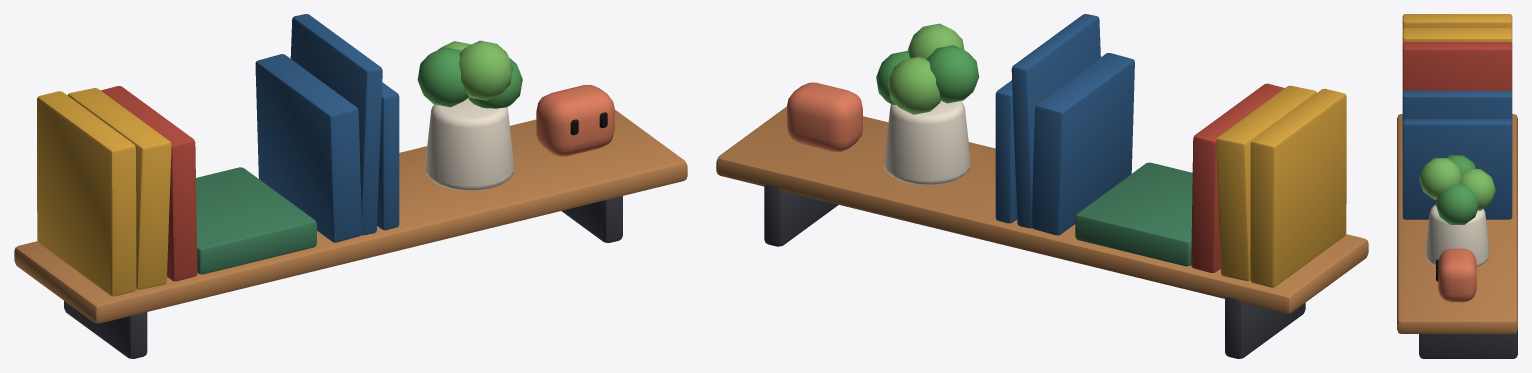
File: prateleira.glb
The picture shows the model from 3 angles, left to right: view 1: azimuth 30°, elevation 25°; view 2: azimuth 150°, elevation 25°; view 3: azimuth 270°, elevation 25°; orthographic projection. The views are drawn at different scales.
Visible parts, largest first — view 1: Cube, Cube.003, Cube.007, Cube.006, Cube.008, Cube.004, Cone, Cube.005, Cube.010, Cube.009, Icosphere.003, Icosphere.002 (+3 smaller); view 2: Cube, Cube.003, Cube.007, Cube.006, Cube.008, Cube.004, Cone, Cube.005, Cube.010, Cube.001, Cube.009, Cube.002 (+4 smaller); view 3: Cube, Cube.009, Cube.005, Cube.008, Cube.002, Cone, Cube.010, Cube.003, Cube.004, Icosphere, Icosphere.003, Icosphere.001 (+1 smaller).
Boxes of the visible parts, x1,y1,x2,y2 form: Cube: (14, 109, 687, 323); Cube.003: (37, 91, 136, 296); Cube.007: (255, 54, 361, 242); Cube.006: (196, 167, 316, 274); Cube.008: (290, 14, 382, 235); Cube.004: (67, 88, 171, 289); Cone: (425, 98, 514, 190); Cube.005: (101, 86, 197, 281); Cube.010: (536, 85, 614, 156); Cube.009: (377, 82, 399, 230); Icosphere.003: (459, 40, 512, 100); Icosphere.002: (417, 47, 468, 107); Cube: (716, 106, 1368, 313); Cube.003: (1250, 88, 1346, 287); Cube.007: (1032, 53, 1134, 235); Cube.006: (1075, 162, 1192, 266); Cube.008: (1011, 14, 1100, 228); Cube.004: (1216, 85, 1316, 280); Cone: (884, 101, 970, 185); Cube.005: (1191, 83, 1284, 272); Cube.010: (787, 82, 862, 151); Cube.001: (1225, 297, 1305, 358); Cube.009: (995, 80, 1017, 223); Cube.002: (764, 184, 838, 246); Cube: (1397, 114, 1517, 333); Cube.009: (1402, 119, 1512, 219); Cube.005: (1402, 42, 1512, 92); Cube.008: (1402, 91, 1512, 120); Cube.002: (1419, 330, 1517, 358); Cone: (1425, 204, 1489, 266); Cube.010: (1438, 248, 1476, 302); Cube.003: (1402, 14, 1512, 29); Cube.004: (1402, 28, 1512, 43); Icosphere: (1435, 183, 1479, 224); Icosphere.003: (1419, 158, 1461, 199); Icosphere.001: (1460, 169, 1495, 210).
Bounding box in the file's own units: 0.9 × 0.3538 × 0.22.
